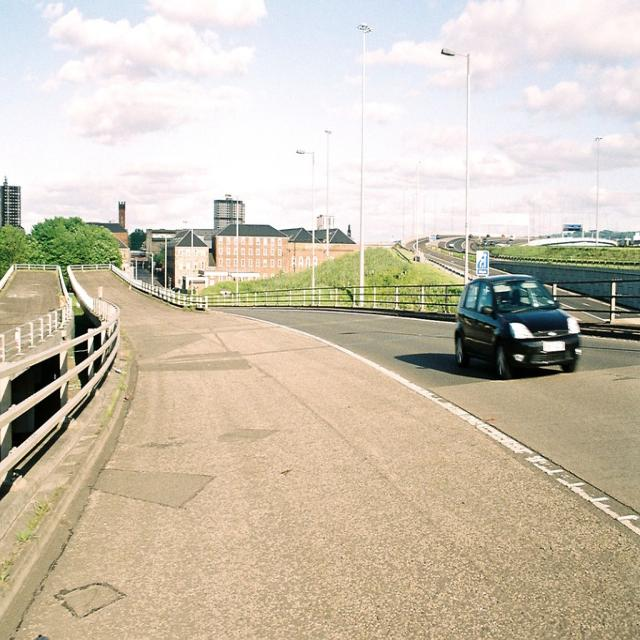car: (453, 259, 579, 371)
